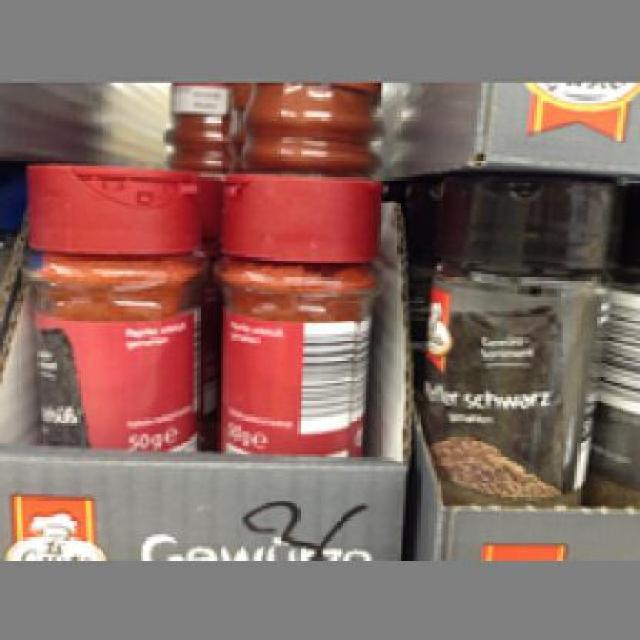Spices: (420, 174, 611, 506), (17, 160, 203, 446), (203, 168, 377, 458)
